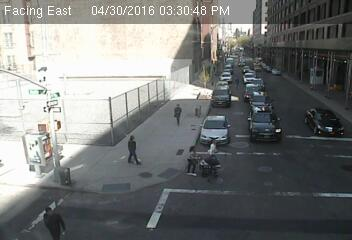neg: (304, 107, 331, 142), (321, 73, 344, 104), (32, 130, 51, 156), (330, 110, 346, 132), (39, 79, 54, 100), (313, 71, 323, 85)
pos: (117, 132, 148, 173), (39, 202, 63, 234), (167, 98, 188, 127), (181, 144, 201, 172), (206, 137, 219, 154)
